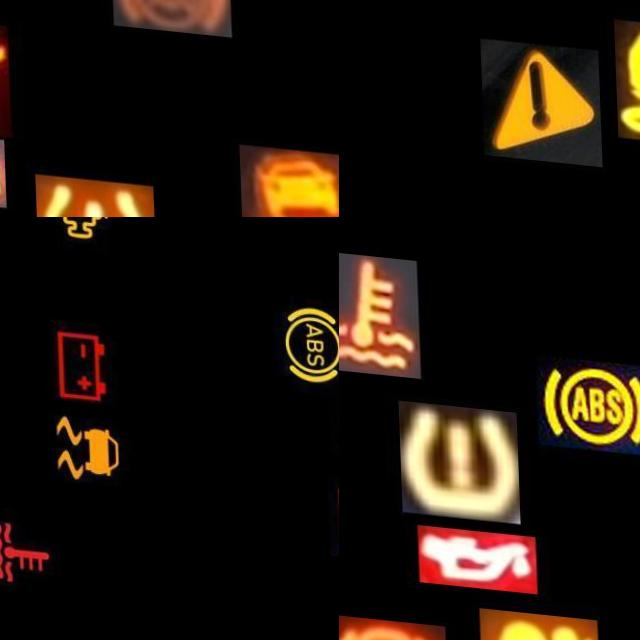Central Warning lamp: (480, 35, 601, 161)
Engine cooling system: (339, 243, 419, 371)
